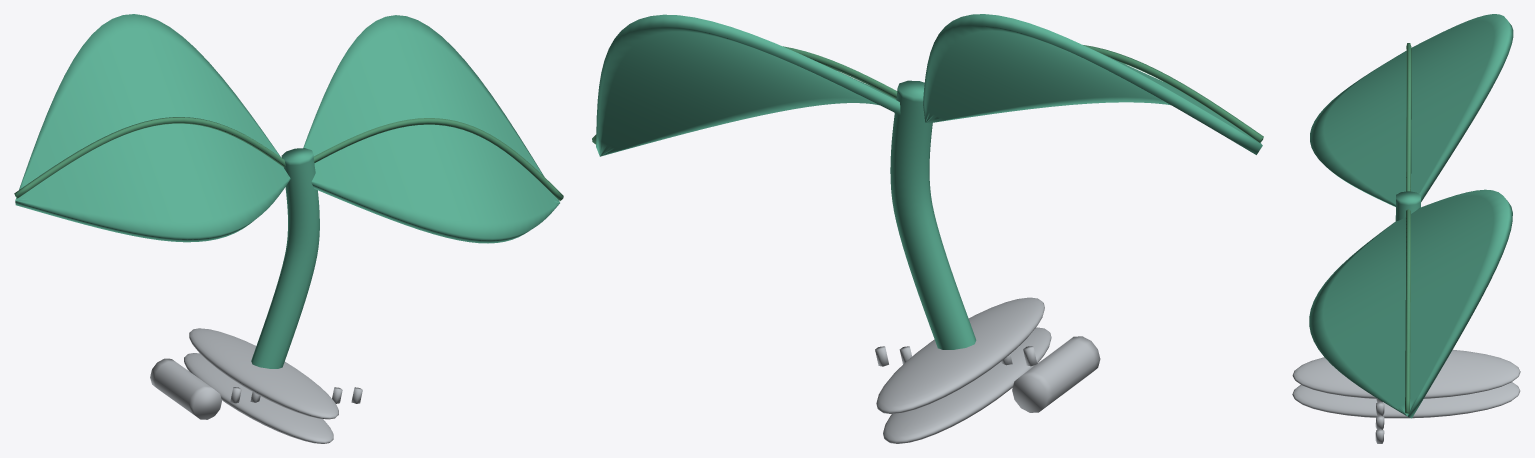
The model's file is Masculine-taper-pashmina250-sprout.glb.
3 renders of one model, left to right at view 1: azimuth 30°, elevation 25°; view 2: azimuth 150°, elevation 25°; view 3: azimuth 270°, elevation 25°, orthographic. The views are drawn at different scales.
Parts seen in each view (by area): view 1: 226 extra / Accessory / mint226, 226 extra / Sprout / clip silver235, 226 extra / Sprout / leaf vein235; view 2: 226 extra / Accessory / mint226, 226 extra / Sprout / clip silver235, 226 extra / Sprout / leaf vein235; view 3: 226 extra / Accessory / mint226, 226 extra / Sprout / clip silver235, 226 extra / Sprout / leaf vein235.
Boxes of the visible parts, x1,y1,x2,y2 form: 226 extra / Accessory / mint226: (15, 14, 559, 368); 226 extra / Sprout / clip silver235: (150, 328, 362, 443); 226 extra / Sprout / leaf vein235: (14, 117, 563, 200); 226 extra / Accessory / mint226: (596, 14, 1262, 349); 226 extra / Sprout / clip silver235: (875, 297, 1100, 443); 226 extra / Sprout / leaf vein235: (592, 45, 1263, 144); 226 extra / Accessory / mint226: (1309, 14, 1513, 418); 226 extra / Sprout / clip silver235: (1292, 349, 1520, 443); 226 extra / Sprout / leaf vein235: (1405, 43, 1411, 413).
Size of the model in its own units: 0.2644 by 0.1737 by 0.104.
